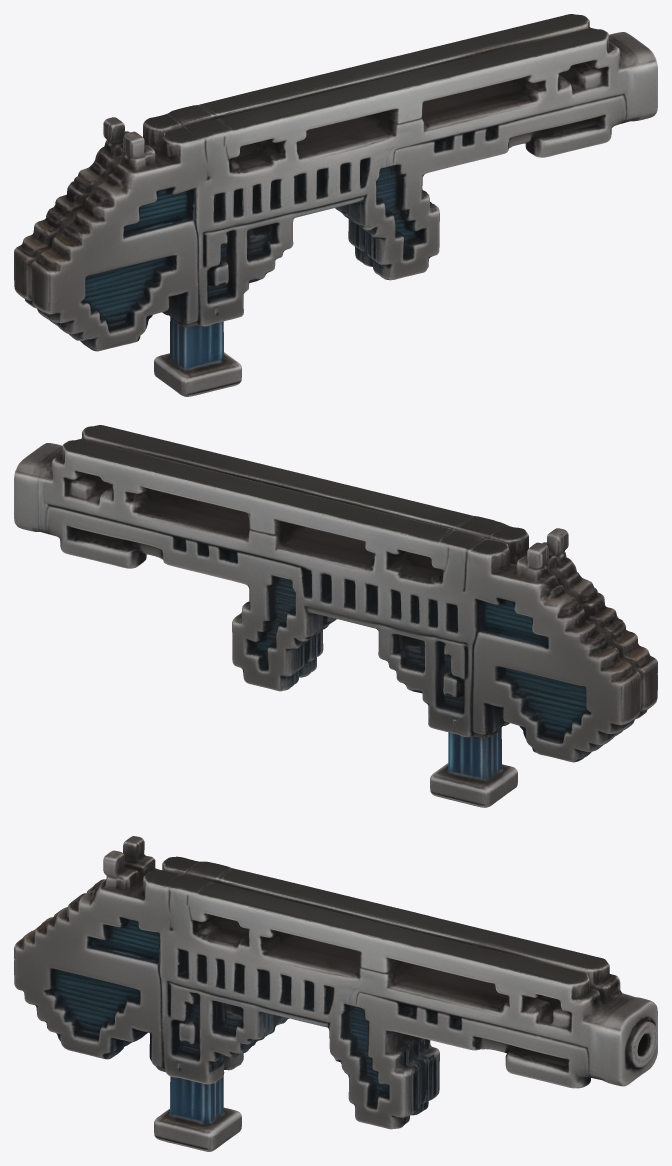
The picture shows the model from 3 angles, top to bottom: view 1: azimuth 30°, elevation 25°; view 2: azimuth 150°, elevation 25°; view 3: azimuth 330°, elevation 25°; orthographic projection.
Parts seen in each view (by area): view 1: world_0; view 2: world_0; view 3: world_0.
Boxes of the visible parts, x1,y1,x2,y2 form: world_0: [14, 14, 657, 396]; world_0: [14, 425, 657, 807]; world_0: [14, 836, 657, 1151].
Size of the model in its own units: 1 by 0.422 by 0.1089.
Materials: 1 (1 with a texture image).
